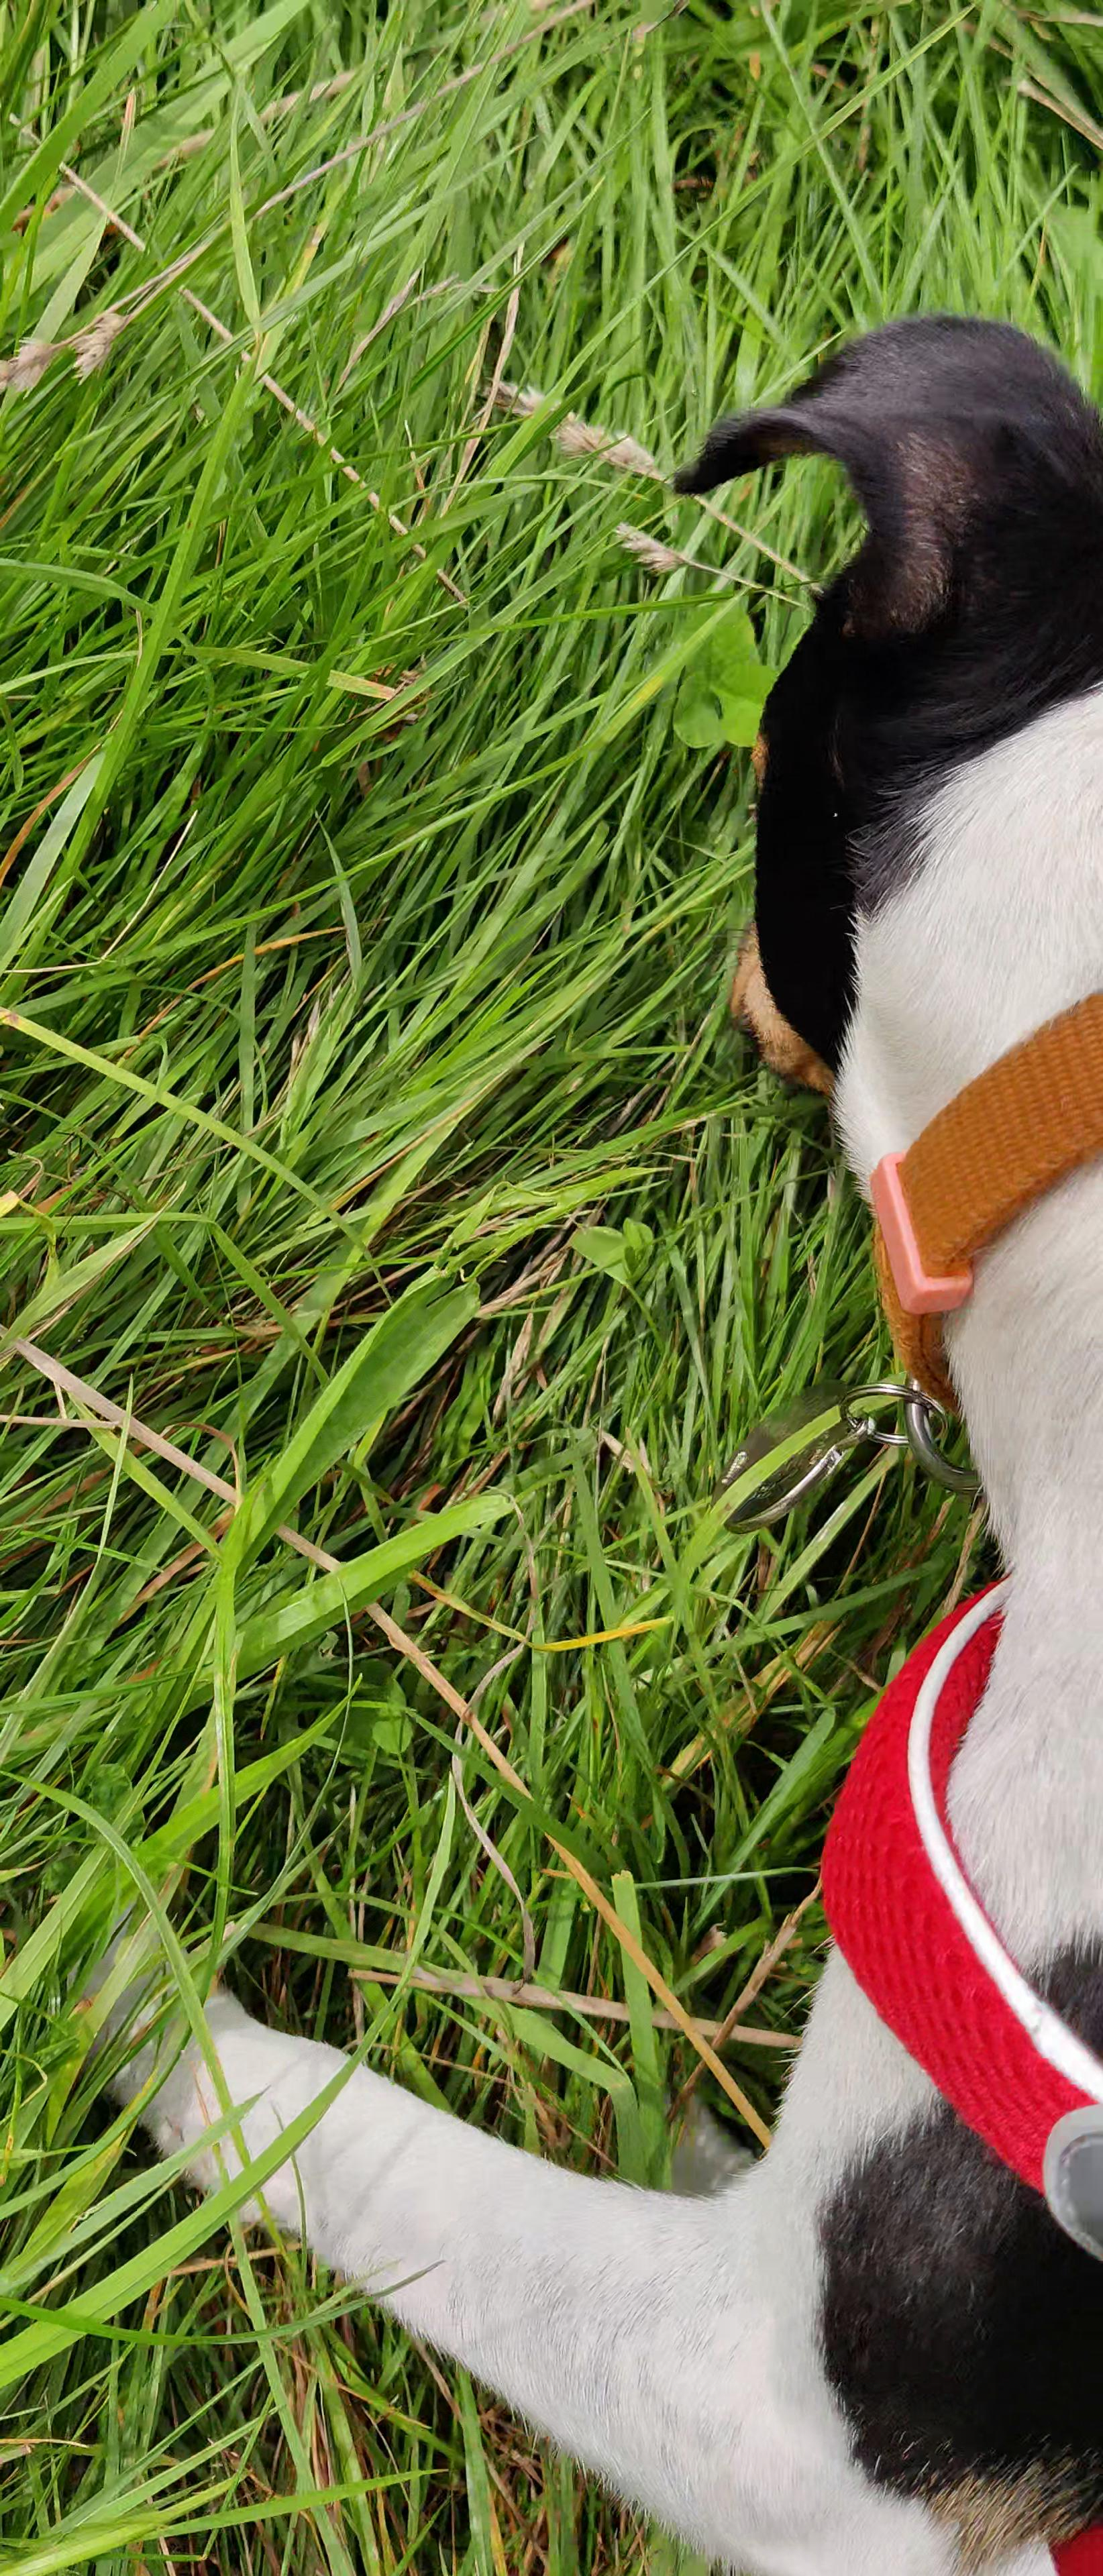Dog: (64, 319, 1103, 2576)
